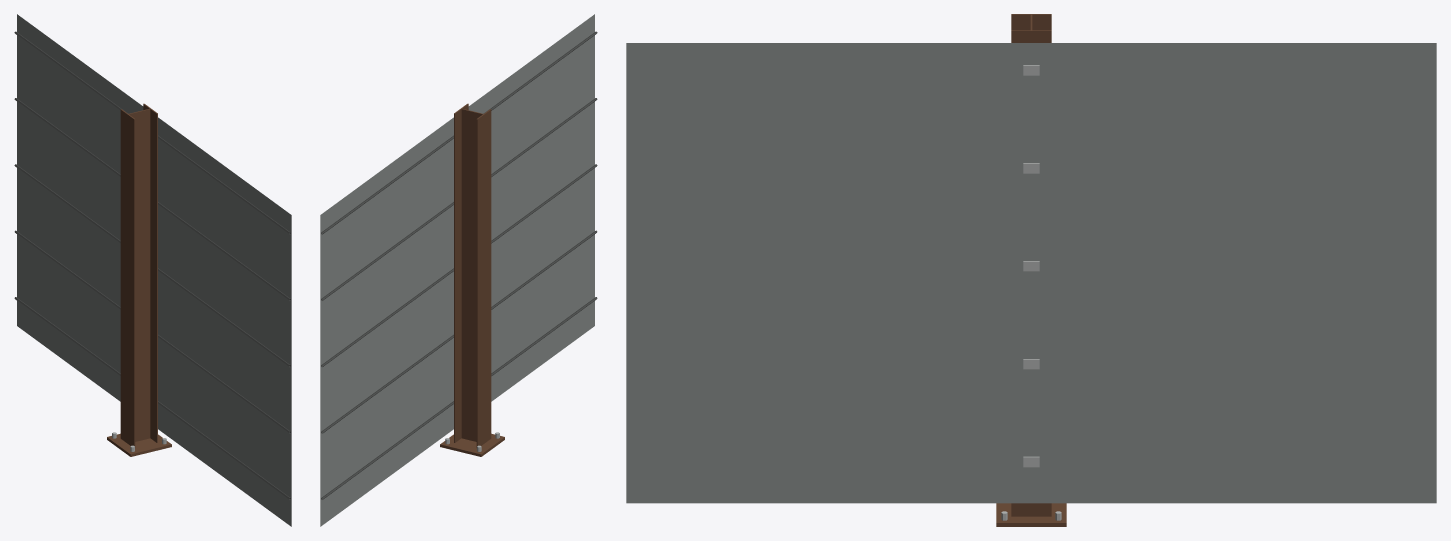
The model's file is rockfall_fence.glb.
The picture shows the model from 3 angles, left to right: view 1: azimuth 30°, elevation 25°; view 2: azimuth 150°, elevation 25°; view 3: azimuth 270°, elevation 25°; orthographic projection. The views are drawn at different scales.
Parts seen in each view (by area): view 1: rockfall_fence; view 2: rockfall_fence; view 3: rockfall_fence.
Part boxes in pixels (x1,y1,x2,y2): rockfall_fence: [14, 14, 291, 526]; rockfall_fence: [320, 14, 597, 526]; rockfall_fence: [626, 14, 1436, 526].
Bounding box in the file's own units: 0.26 × 2 × 3.
